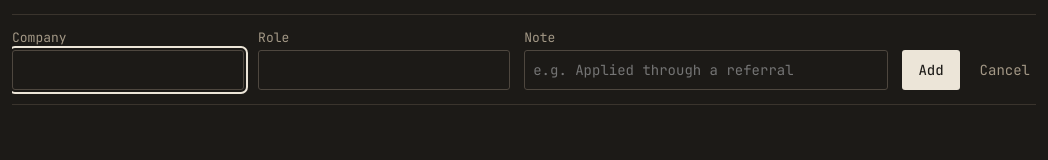
it: AddApplicationForm › should clear the company error once a company is sent
The image size is (1048, 160).
Click the button "Add".
click(931, 70)  # box [902,50,960,90]
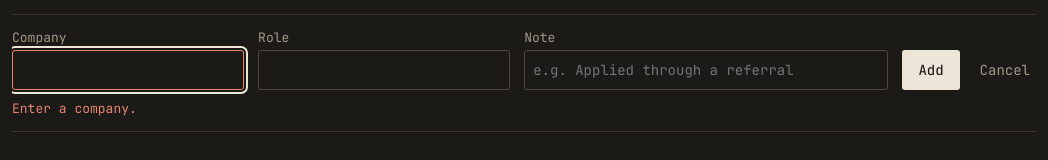
Type "Org One AS" into the field labelled "Company".
click(128, 70); type("Org One AS")  # box [12,50,244,90]
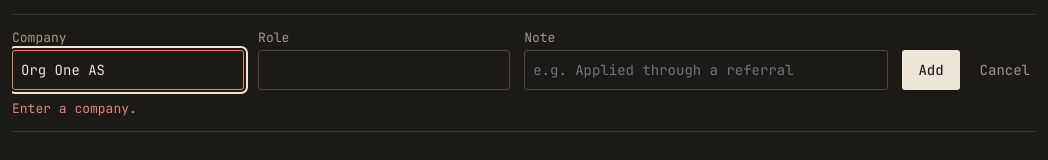
Click the button "Add".
click(931, 70)  # box [902,50,960,90]
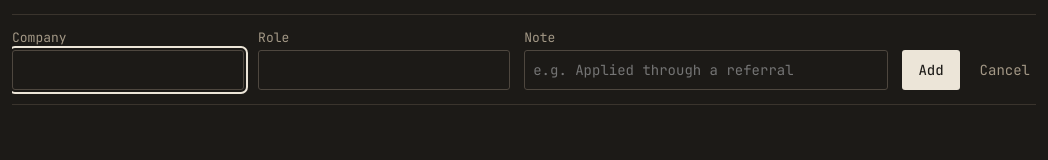
Result: the message "Enter a company." is gone
